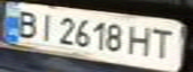1: (87, 19, 109, 52)
2: (54, 14, 78, 47)
6: (72, 16, 93, 50)
8: (106, 20, 127, 53)
B: (9, 7, 42, 38)
H: (124, 23, 157, 57)
I: (33, 10, 57, 42)
T: (148, 26, 181, 61)
